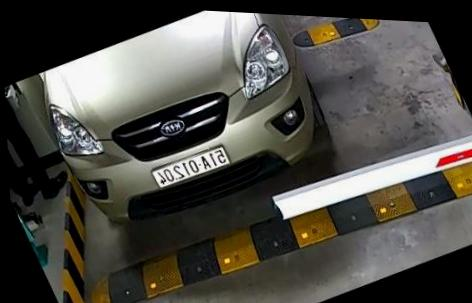License_Plate: (144, 138, 235, 202)
